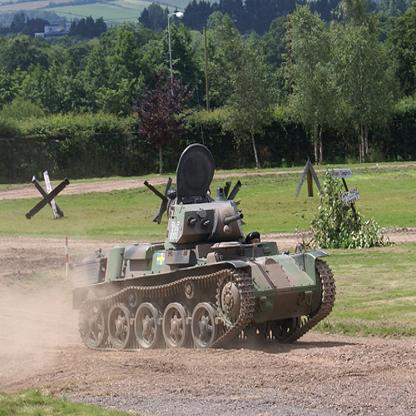Tank: (61, 143, 340, 353)
